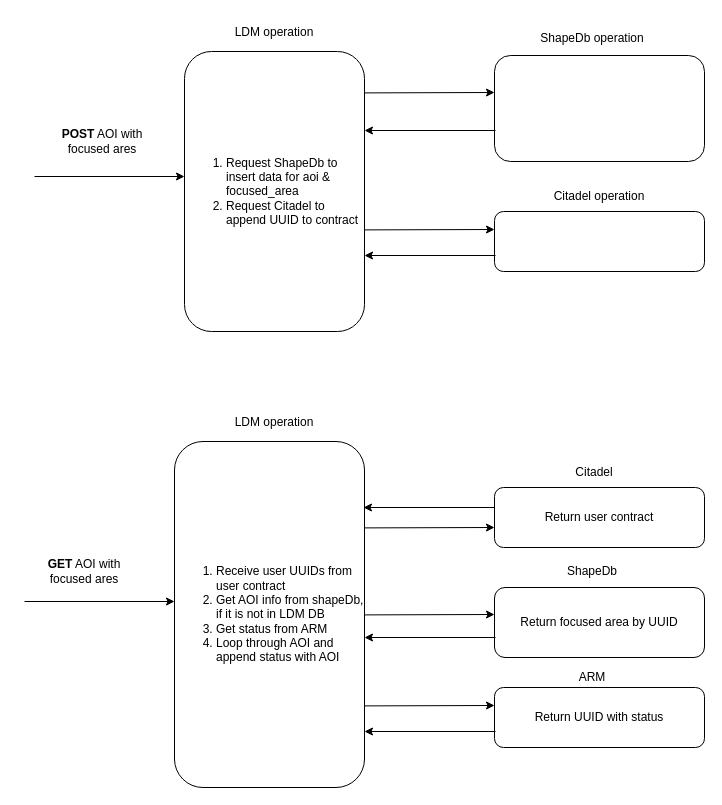
Some shapes in this 722 by 805 pixel diagram are drawn without their labels. Each missing label, with the centre of its shape:
Append UUID to contract: (x=599, y=241)
Insert aoi Insert focused_area: (x=599, y=108)
